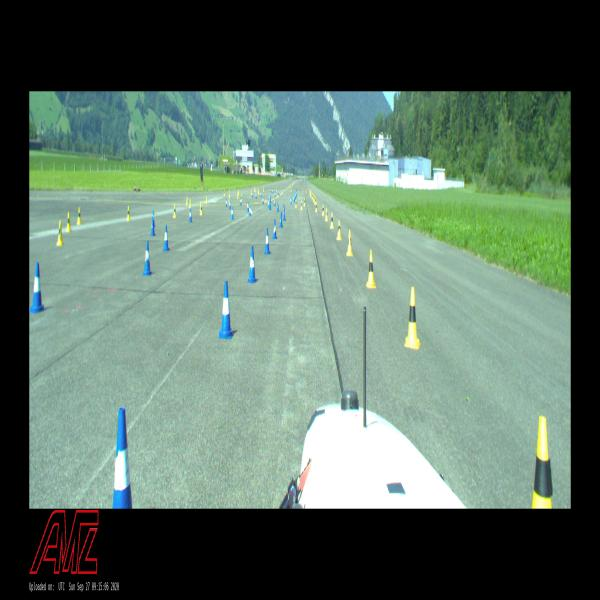blue_cone: (112, 408, 132, 508), (218, 281, 234, 339), (29, 263, 46, 312), (246, 246, 258, 282), (142, 241, 152, 276), (264, 228, 270, 255), (163, 225, 169, 251), (150, 216, 156, 235), (272, 219, 277, 239), (279, 212, 283, 228), (282, 207, 286, 221), (230, 206, 234, 219), (248, 204, 252, 216), (189, 208, 192, 222), (247, 202, 249, 212), (282, 205, 284, 215), (229, 200, 231, 210), (277, 203, 279, 212), (270, 201, 272, 210)
yellow_cone: (532, 416, 552, 508), (404, 287, 420, 350), (366, 250, 376, 288), (56, 221, 64, 245), (346, 230, 353, 256), (66, 212, 72, 231), (336, 219, 341, 240), (77, 207, 81, 224), (330, 212, 334, 228), (126, 206, 130, 221), (173, 204, 177, 218), (325, 207, 328, 221), (200, 203, 203, 215), (300, 200, 303, 210), (322, 204, 324, 215), (315, 202, 317, 212), (189, 198, 191, 208), (295, 199, 297, 208), (186, 195, 188, 204)
